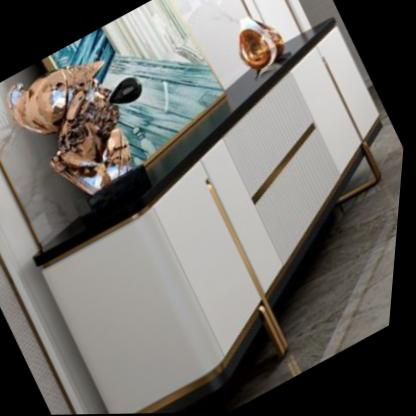Sideboard: (41, 19, 385, 414)
